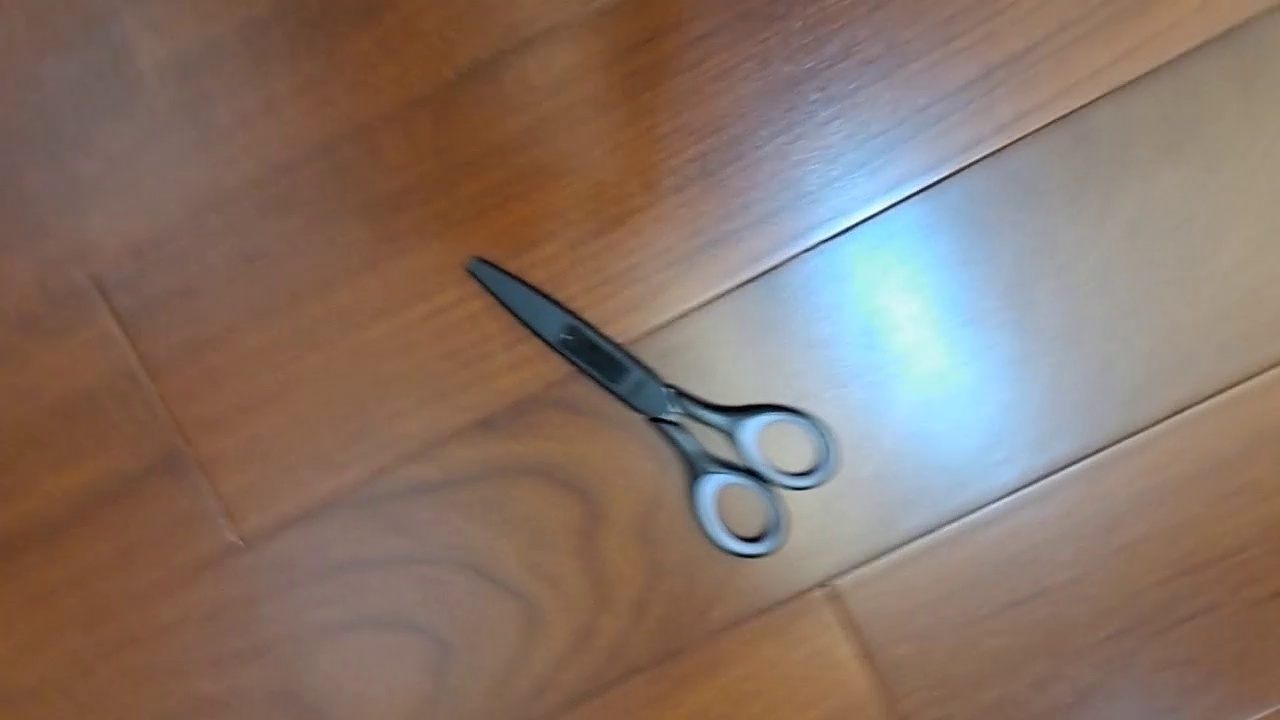scissors: (461, 254, 842, 558)
